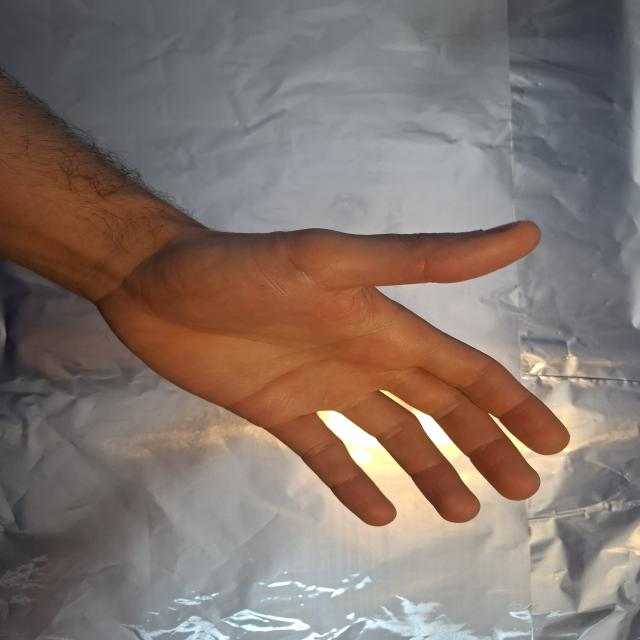glove_off: (90, 216, 572, 528)
